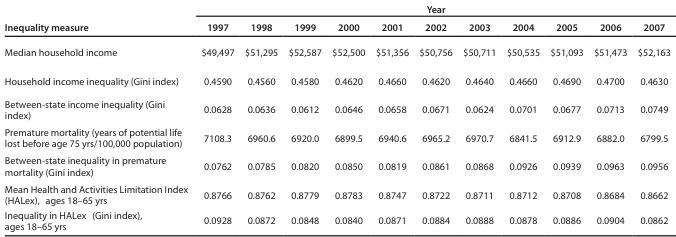table: (3, 4, 669, 231)
table column: (3, 4, 193, 231), (193, 4, 238, 231), (238, 4, 282, 231), (282, 4, 326, 231), (369, 4, 413, 231), (413, 4, 457, 231), (500, 4, 544, 231), (587, 4, 631, 231), (326, 4, 369, 231), (457, 4, 500, 231), (544, 4, 587, 231), (631, 4, 669, 231)
table column header: (3, 4, 669, 39)
table row: (3, 92, 669, 123), (3, 123, 669, 152), (3, 152, 669, 180), (3, 39, 669, 66), (3, 180, 669, 207), (3, 66, 669, 92), (3, 207, 669, 231), (3, 18, 669, 39), (3, 4, 669, 18)
table spanning cell: (193, 4, 669, 18), (3, 4, 193, 39)
